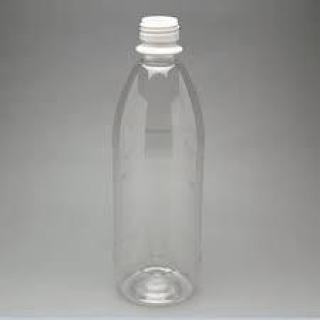Plastic-bottle: (109, 14, 209, 312)
